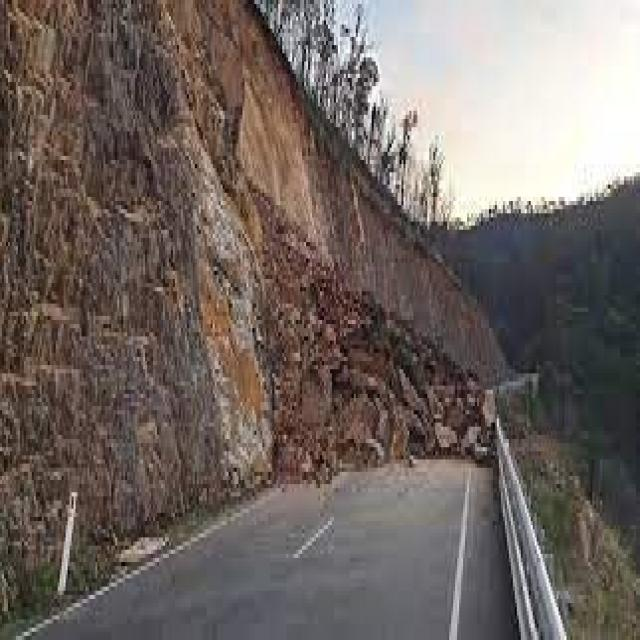landSliding: (268, 208, 507, 582)
